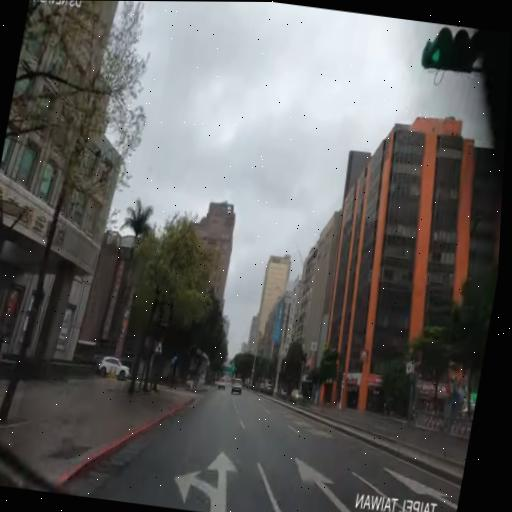Car: (93, 351, 135, 386), (230, 375, 244, 396), (215, 374, 228, 392)
